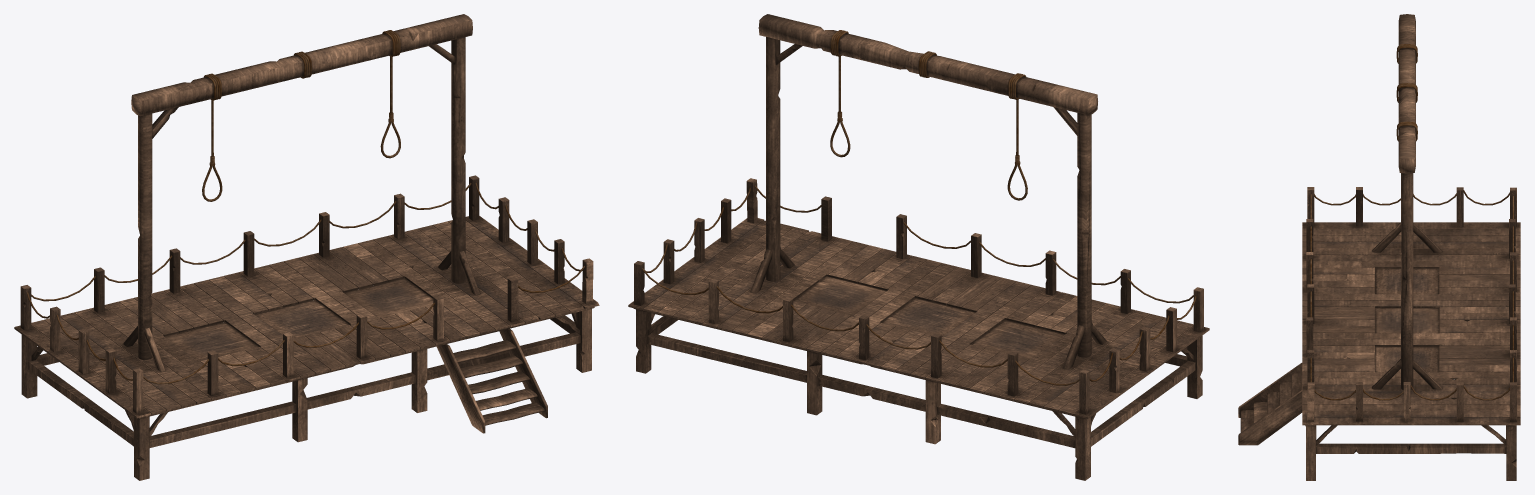
File: hang.fbx
3 views of the same model, side by side, from view 1: azimuth 30°, elevation 25°; view 2: azimuth 150°, elevation 25°; view 3: azimuth 270°, elevation 25° (orthographic). The views are drawn at different scales.
Visible parts, largest first — view 1: Gallow_1; view 2: Gallow_1; view 3: Gallow_1.
Part boxes in pixels (box(x1,y1,x2,y2)): Gallow_1: box(14, 14, 599, 480); Gallow_1: box(628, 14, 1209, 480); Gallow_1: box(1238, 14, 1520, 480).
Bounding box in the file's own units: 589 × 403 × 349.
